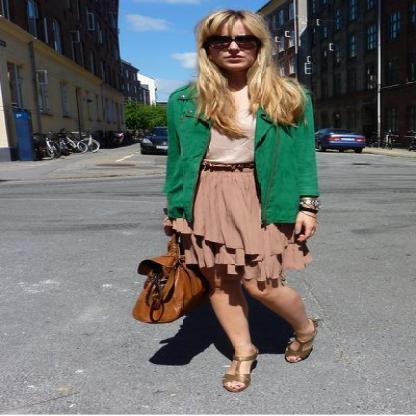bag: (132, 244, 211, 323)
jacket: (160, 82, 327, 224)
shirt: (206, 86, 255, 163)
shoe: (222, 333, 313, 392)
skirt: (164, 158, 312, 291)
sunglass: (201, 28, 262, 58)
